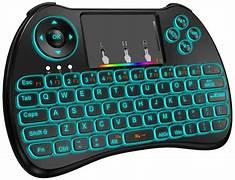keyboard: (1, 2, 235, 180)
